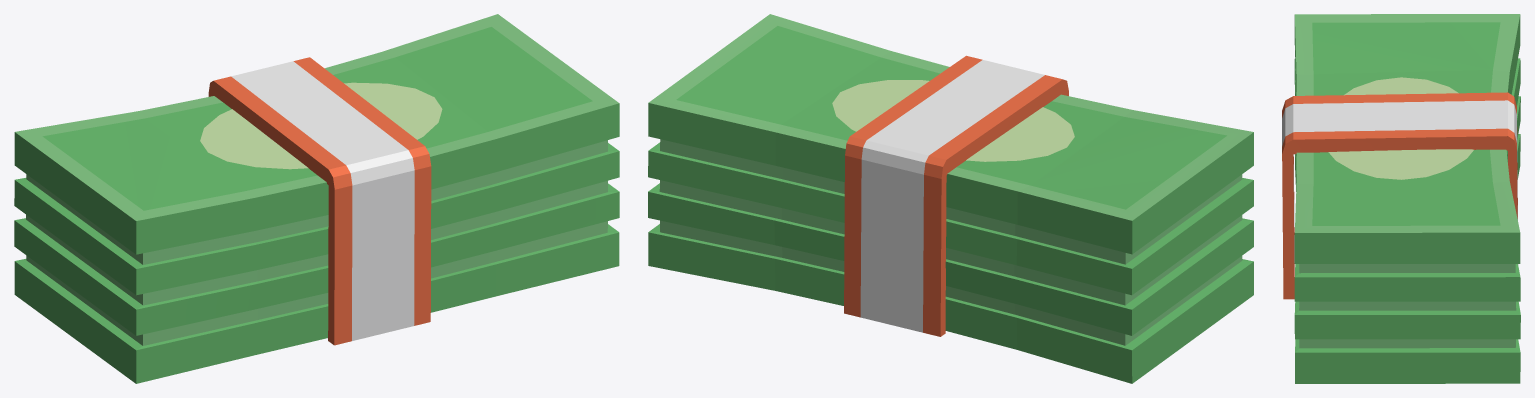
Rendered from Dollar.fbx.
The picture shows the model from 3 angles, left to right: view 1: azimuth 30°, elevation 25°; view 2: azimuth 150°, elevation 25°; view 3: azimuth 270°, elevation 25°; orthographic projection. The views are drawn at different scales.
Parts seen in each view (by area): view 1: 3; view 2: 3; view 3: 3.
Boxes of the visible parts, x1,y1,x2,y2 form: 3: [14, 14, 619, 383]; 3: [648, 14, 1253, 383]; 3: [1282, 14, 1520, 383].
Bounding box in the file's own units: 360 × 125 × 166.
